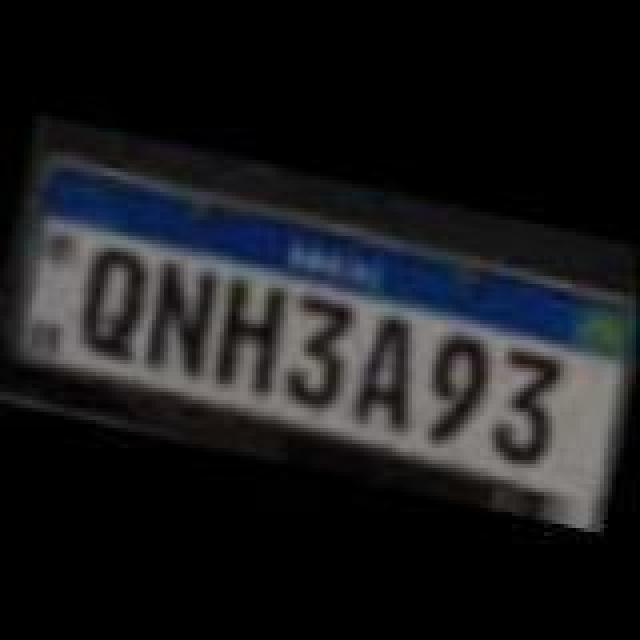3: (478, 342, 578, 474), (268, 282, 368, 410)
9: (412, 322, 500, 454)
A: (342, 302, 430, 434)
H: (204, 270, 296, 402)
N: (134, 256, 230, 384)
Q: (64, 238, 156, 362)
